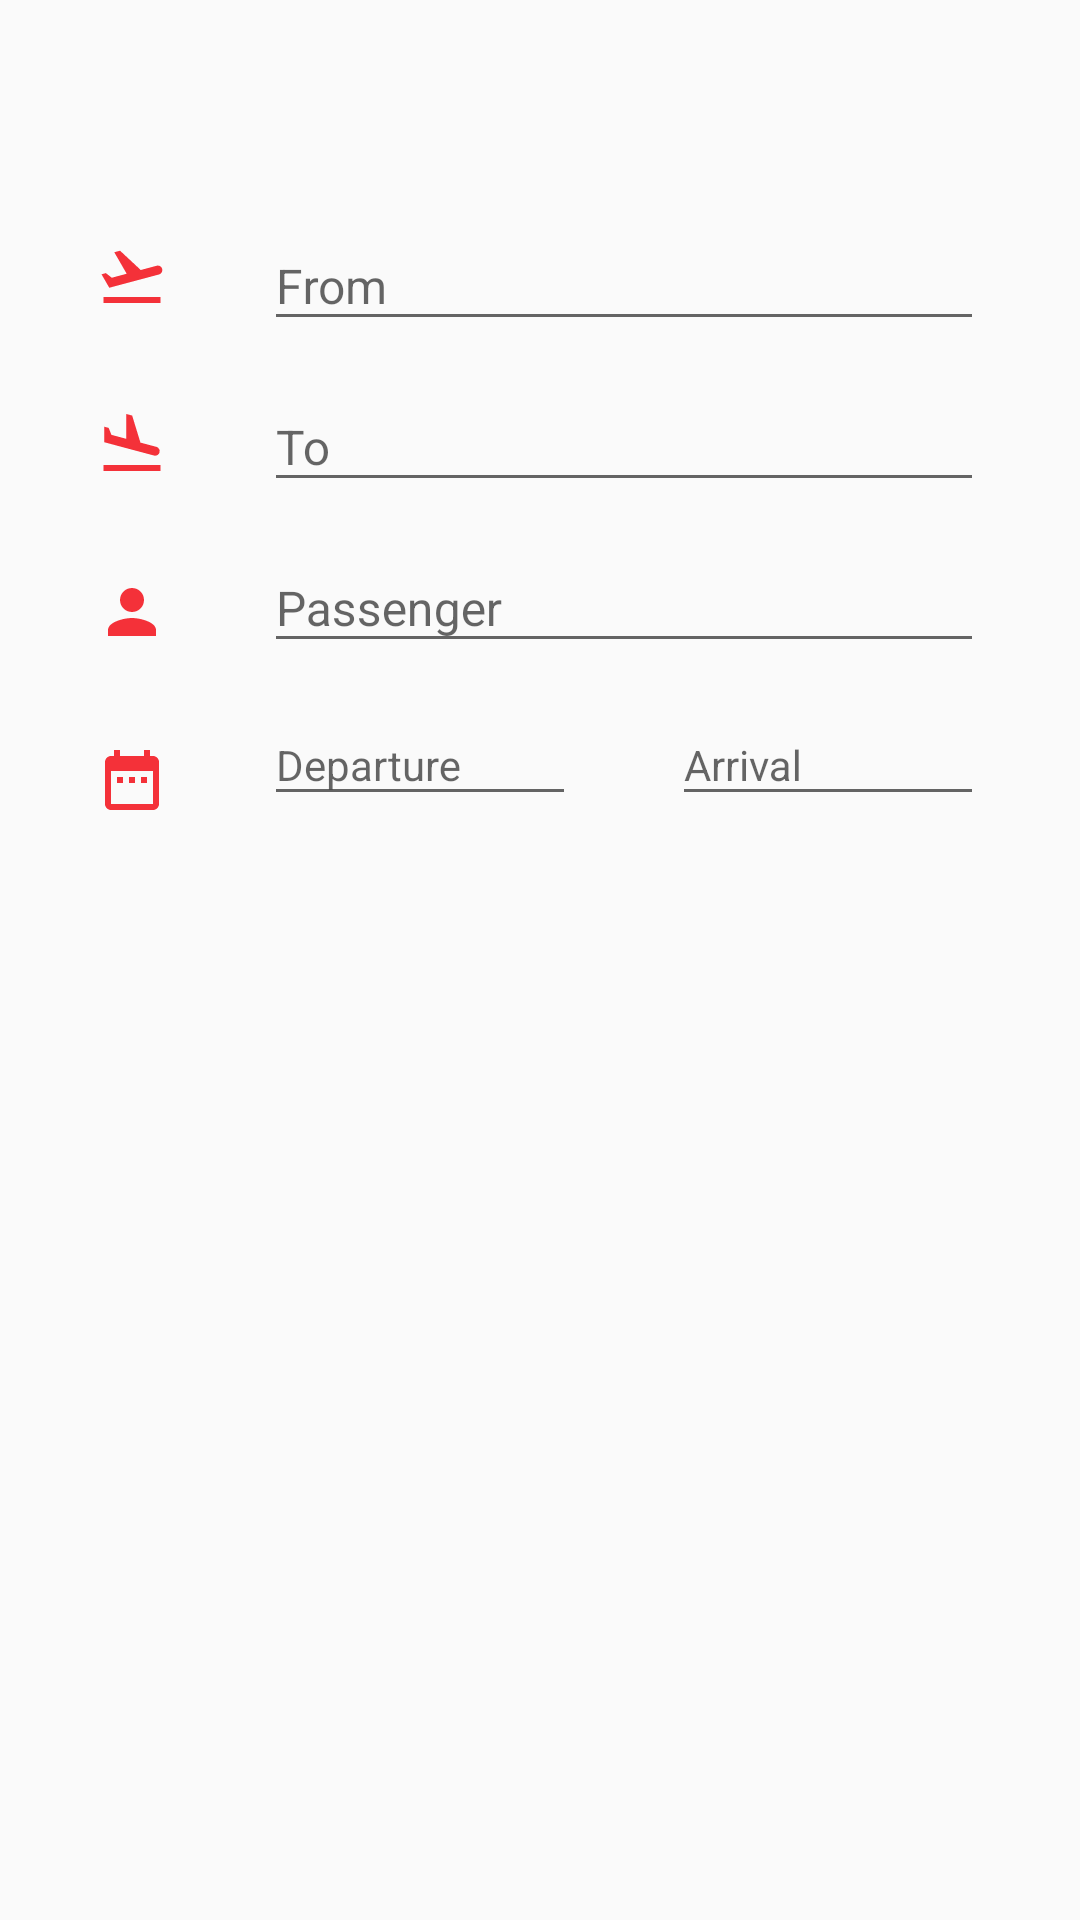

Where to tap for icons on this 1080w x 1920h app screen, as (x=x, y=y):
date range: (x=132, y=780)
flight land: (x=132, y=442)
flight takeoff: (x=132, y=276)
person: (x=132, y=612)
